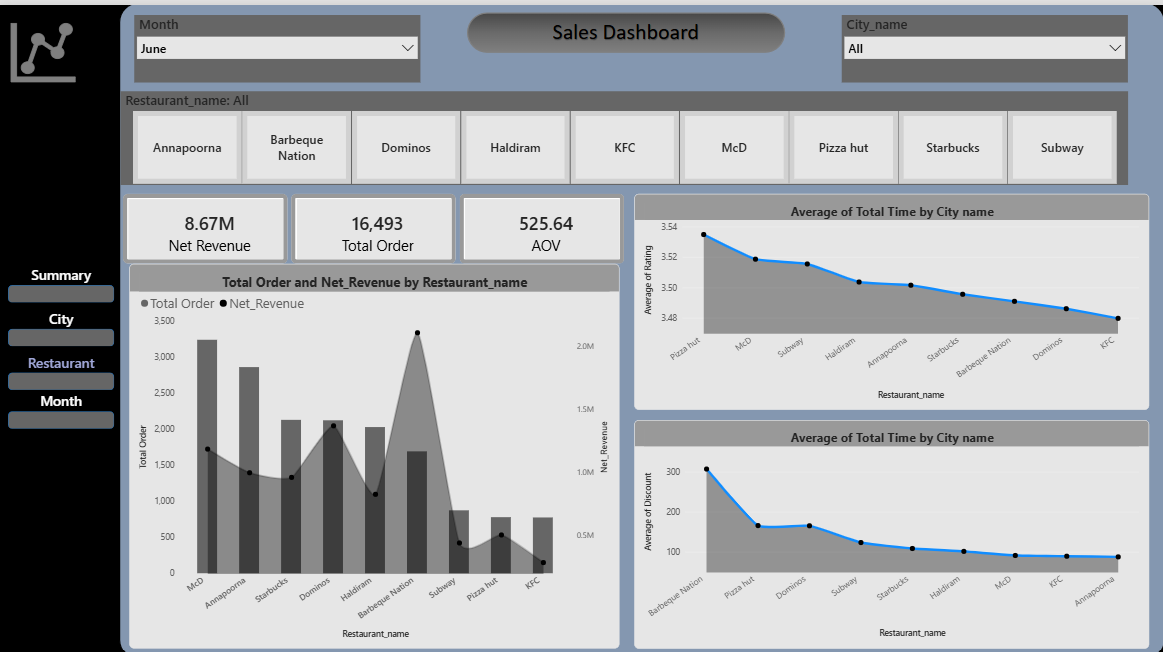

What the dashboard file says about the page in this screenshot:
{"tool":"powerbi","page":{"name":"Restaurant","canvas":[1920,1080],"ordinal":2},"visuals":[{"type":"slicer","fields":{"Values":["order details.Date.Variation.Date Hierarchy.Month"]},"box":[224.4,16.5,471.4,111.1],"z":0},{"type":"slicer","fields":{"Values":["city details.City_name"]},"box":[1389.4,16.5,471.4,111.1],"z":1000},{"type":"slicer","fields":{"Values":["city details.Restaurant_name"]},"box":[201.7,142,1659,154.4],"z":2000},{"type":"cardVisual","title":"Net Revenue","fields":{"Data":["order details.KPI Net Revenue_2","order details.KPI Total Order","order details.KPI AOV"]},"box":[205.8,310.8,825.4,115.3],"z":3000},{"type":"shape","title":"Summary","box":[16.5,428.1,175,61.7],"z":4000},{"type":"shape","title":"City","box":[16.5,500.2,175,61.7],"z":5000},{"type":"shape","title":"Restaurant","box":[16.5,572.2,175,61.7],"z":6000},{"type":"shape","title":"Month","box":[16.5,636,175,61.7],"z":7000},{"type":"lineStackedColumnComboChart","fields":{"Category":["city details.Restaurant_name"],"Y":["order details.Total Order"],"Y2":["order details.Net_Revenue"]},"box":[216.1,426.1,806.9,634],"z":7001},{"type":"lineChart","title":"Average of Total Time by City name","fields":{"Category":["city details.Restaurant_name"],"Y":["Avg(order details.Rating)"]},"box":[1047.7,310.8,848,356.1],"z":7002},{"type":"lineChart","title":"Average of Total Time by City name","fields":{"Category":["city details.Restaurant_name"],"Y":["Avg(order details.Discount)"]},"box":[1047.7,683.4,848,376.7],"z":7003}]}

Visuals, with their boxes on the page's 1920x1080 design canvas (x1, y1, x2, y2). These are canvas units, not pixel positions in the 1163x652 screenshot, which may show the page scaled, cropped or inside an application window:
slicer - order details.Date.Variation.Date Hierarchy.Month: x1=224 y1=16 x2=696 y2=128
slicer - city details.City_name: x1=1389 y1=16 x2=1861 y2=128
slicer - city details.Restaurant_name: x1=202 y1=142 x2=1861 y2=296
"Net Revenue" cardVisual: x1=206 y1=311 x2=1031 y2=426
"Summary" shape: x1=16 y1=428 x2=192 y2=490
"City" shape: x1=16 y1=500 x2=192 y2=562
"Restaurant" shape: x1=16 y1=572 x2=192 y2=634
"Month" shape: x1=16 y1=636 x2=192 y2=698
lineStackedColumnComboChart - city details.Restaurant_name x order details.Total Order: x1=216 y1=426 x2=1023 y2=1060
"Average of Total Time by City name" lineChart: x1=1048 y1=311 x2=1896 y2=667
"Average of Total Time by City name" lineChart: x1=1048 y1=683 x2=1896 y2=1060
